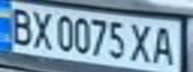0: (51, 11, 75, 53), (72, 15, 93, 55)
5: (106, 18, 130, 61)
7: (87, 16, 109, 57)
A: (148, 22, 178, 68)
B: (3, 3, 36, 47)
X: (127, 20, 157, 64), (27, 7, 54, 51)
